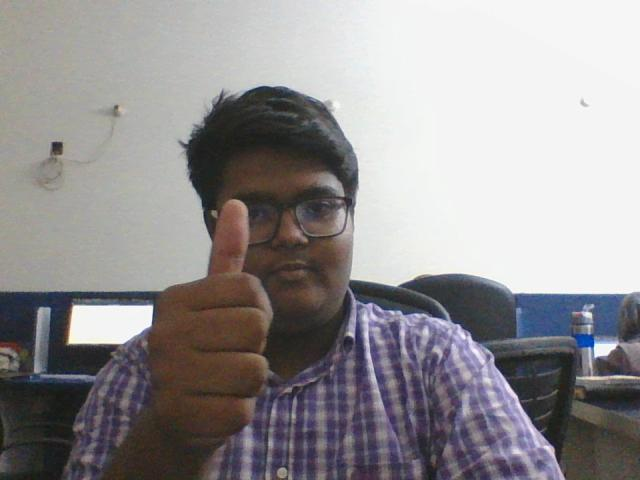thumbs-up: (146, 194, 283, 444)
